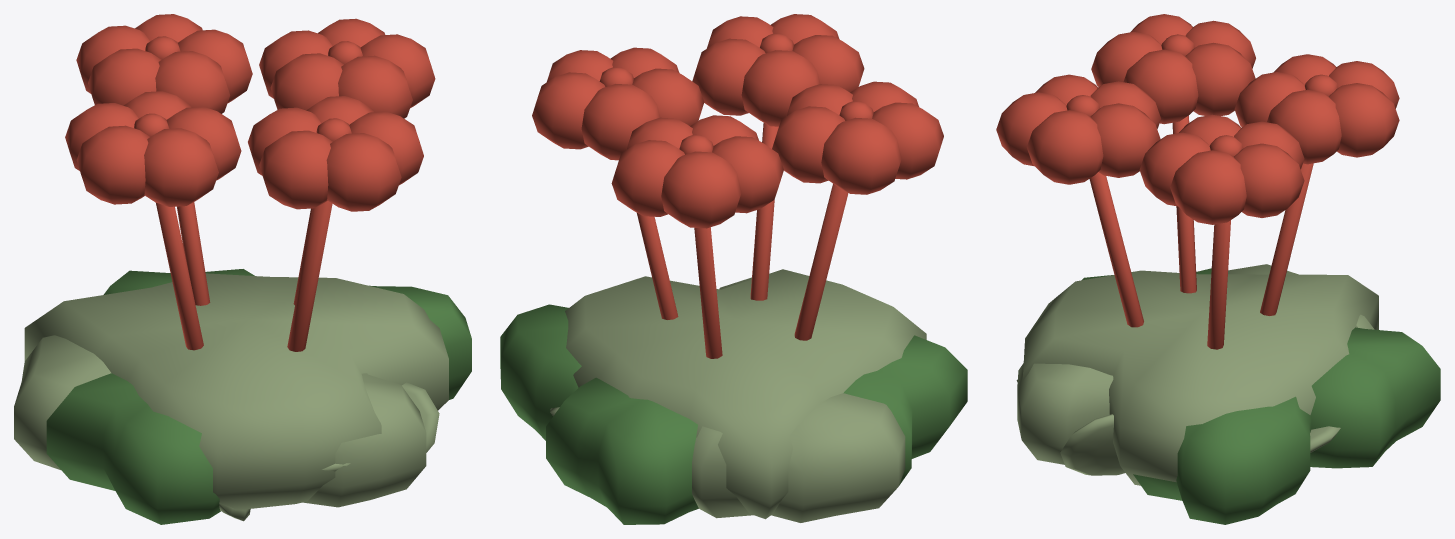
Rendered from flowers_08.glb.
The picture shows the model from 3 angles, left to right: view 1: azimuth 30°, elevation 25°; view 2: azimuth 150°, elevation 25°; view 3: azimuth 270°, elevation 25°; orthographic projection. The views are drawn at different scales.
Visible parts, largest first — view 1: Tint, Ground foliage.036, Ground foliage.039, Ground foliage.038, Ground foliage.040, Ground foliage.037, Ground foliage.041, Rosette leaf.025; view 2: Tint, Ground foliage.036, Ground foliage.041, Ground foliage.040, Ground foliage.039, Ground foliage.037; view 3: Tint, Ground foliage.036, Ground foliage.037, Ground foliage.041, Ground foliage.038, Rosette leaf.025, Ground foliage.040.
Boxes of the visible parts, x1,y1,x2,y2 form: Tint: [65, 14, 435, 351]; Ground foliage.036: [24, 273, 448, 511]; Ground foliage.039: [46, 373, 220, 524]; Ground foliage.038: [303, 373, 426, 507]; Ground foliage.040: [14, 335, 111, 469]; Ground foliage.037: [369, 285, 471, 399]; Ground foliage.041: [103, 269, 254, 294]; Rosette leaf.025: [402, 382, 439, 452]; Tint: [532, 14, 943, 358]; Ground foliage.036: [565, 269, 926, 519]; Ground foliage.041: [546, 377, 698, 524]; Ground foliage.040: [692, 393, 905, 522]; Ground foliage.039: [843, 335, 967, 485]; Ground foliage.037: [500, 304, 581, 440]; Tint: [996, 14, 1399, 349]; Ground foliage.036: [1023, 270, 1378, 485]; Ground foliage.037: [1133, 396, 1311, 524]; Ground foliage.041: [1310, 327, 1440, 468]; Ground foliage.038: [1017, 363, 1113, 464]; Rosette leaf.025: [1060, 414, 1125, 475]; Ground foliage.040: [1228, 264, 1374, 329].
Bounding box in the file's own units: 0.5 × 0.4342 × 0.4771.
